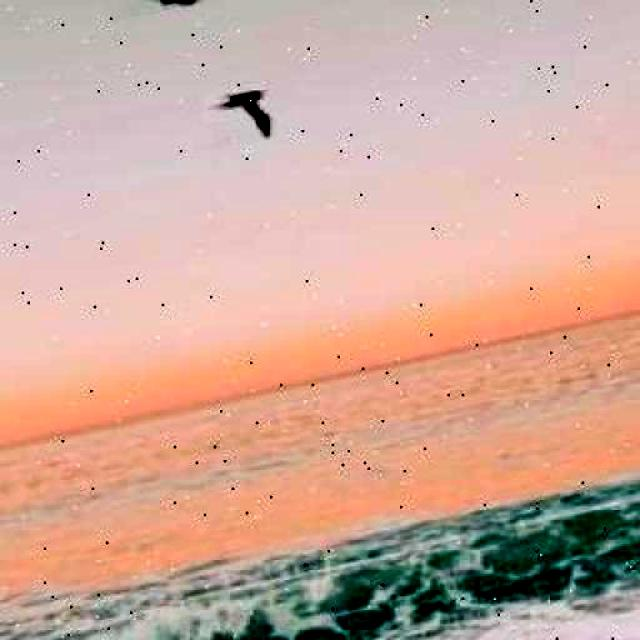airplane: (200, 80, 276, 148), (95, 0, 221, 21)
